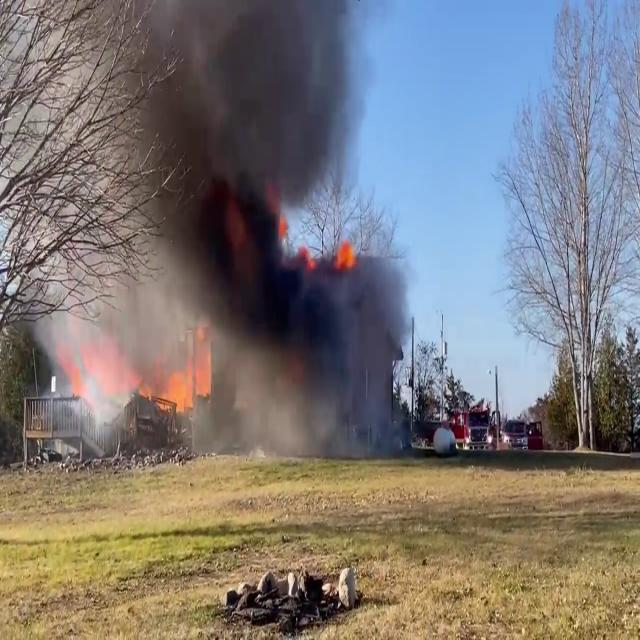Fire: (156, 326, 212, 418), (330, 236, 360, 276)
Smoke: (136, 1, 400, 447)
